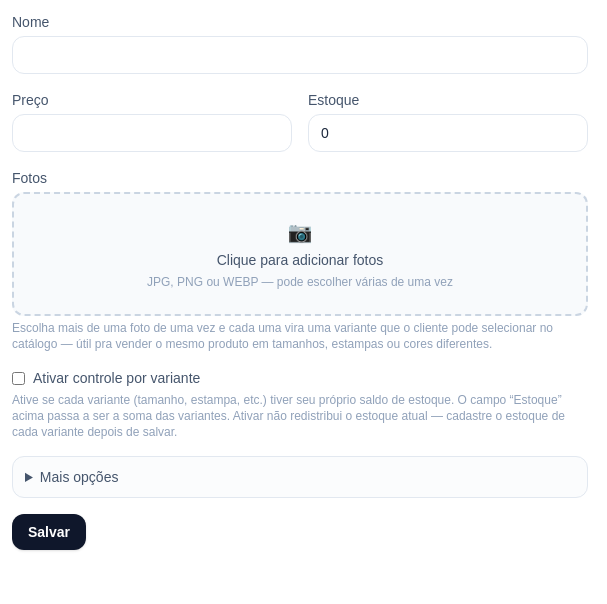
Test: ProdutoForm › exibe a mensagem de erro retornada pela action
The image size is (607, 604).
Type "Produto Teste" into the field labelled "Nome" at [300, 55], box [12, 36, 588, 74]
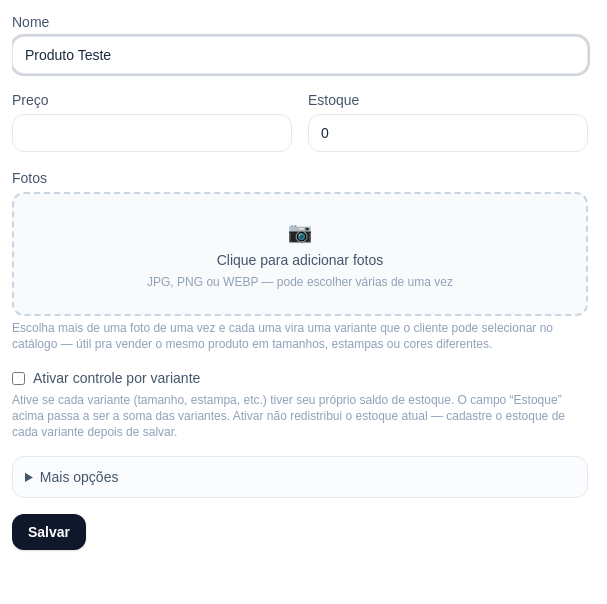
Type "10" into the number field labelled "Preço" at [152, 133], box [12, 114, 292, 152]
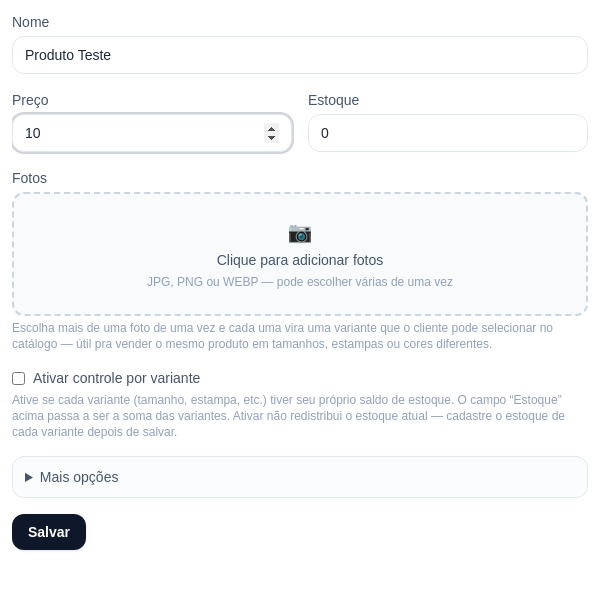
Click the button "Salvar" at [49, 532], box [12, 514, 86, 550]
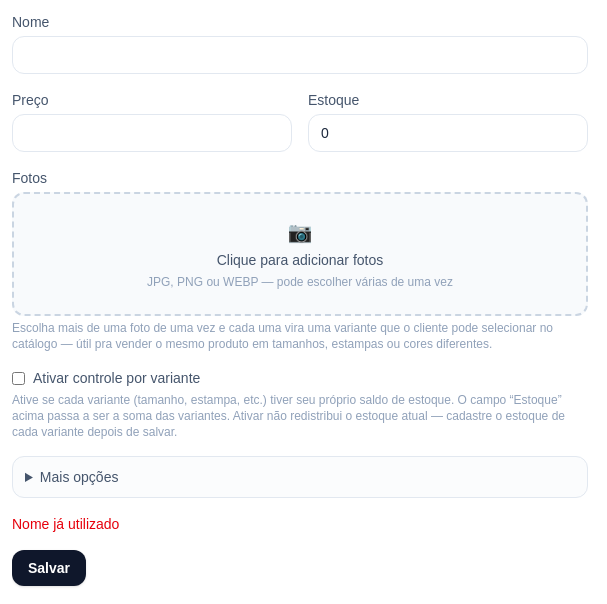
Result: the text "Nome já utilizado" is shown at [12, 516, 119, 532]
